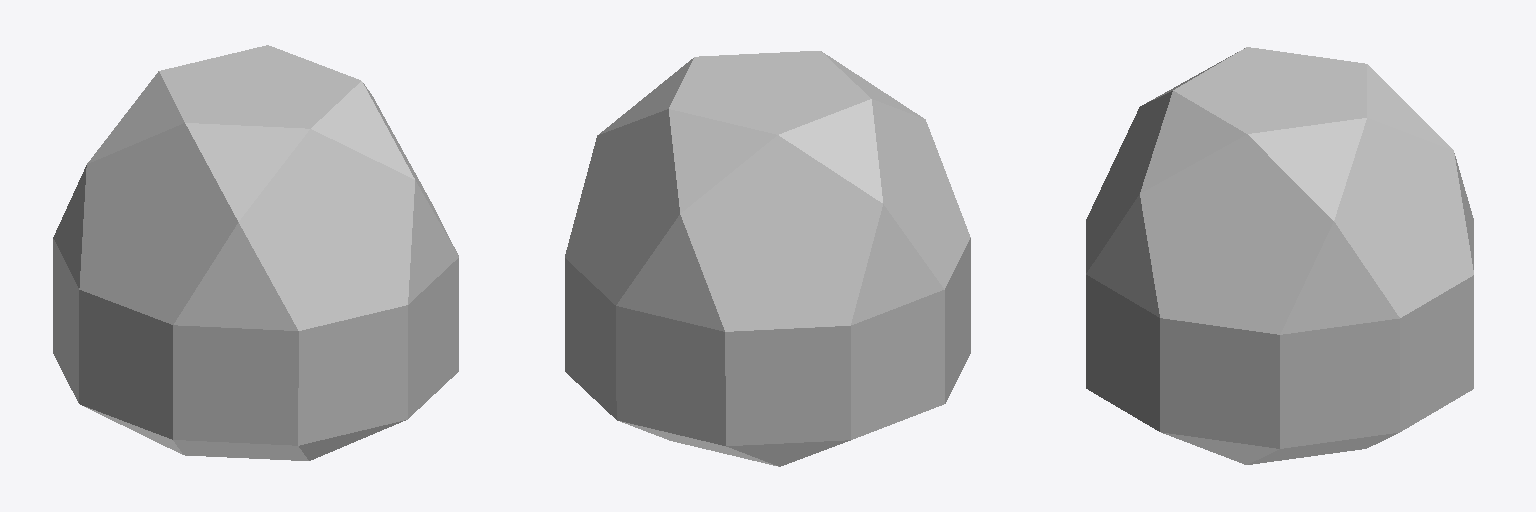
Rendered from ElongatedPentagonalOrthoCupolaRotunda.obj.
The picture shows the model from 3 angles: view 1: azimuth 30°, elevation 25°; view 2: azimuth 150°, elevation 25°; view 3: azimuth 270°, elevation 25°; orthographic projection.
Visible parts, largest first — view 1: ElongatedPentagonalOrthoCupolaRotunda; view 2: ElongatedPentagonalOrthoCupolaRotunda; view 3: ElongatedPentagonalOrthoCupolaRotunda.
Boxes of the visible parts, x1=… form: ElongatedPentagonalOrthoCupolaRotunda: x1=53, y1=45, x2=458, y2=460; ElongatedPentagonalOrthoCupolaRotunda: x1=565, y1=51, x2=970, y2=466; ElongatedPentagonalOrthoCupolaRotunda: x1=1086, y1=47, x2=1473, y2=464.
Size of the model in its own units: 2.43 by 2.18 by 2.31.